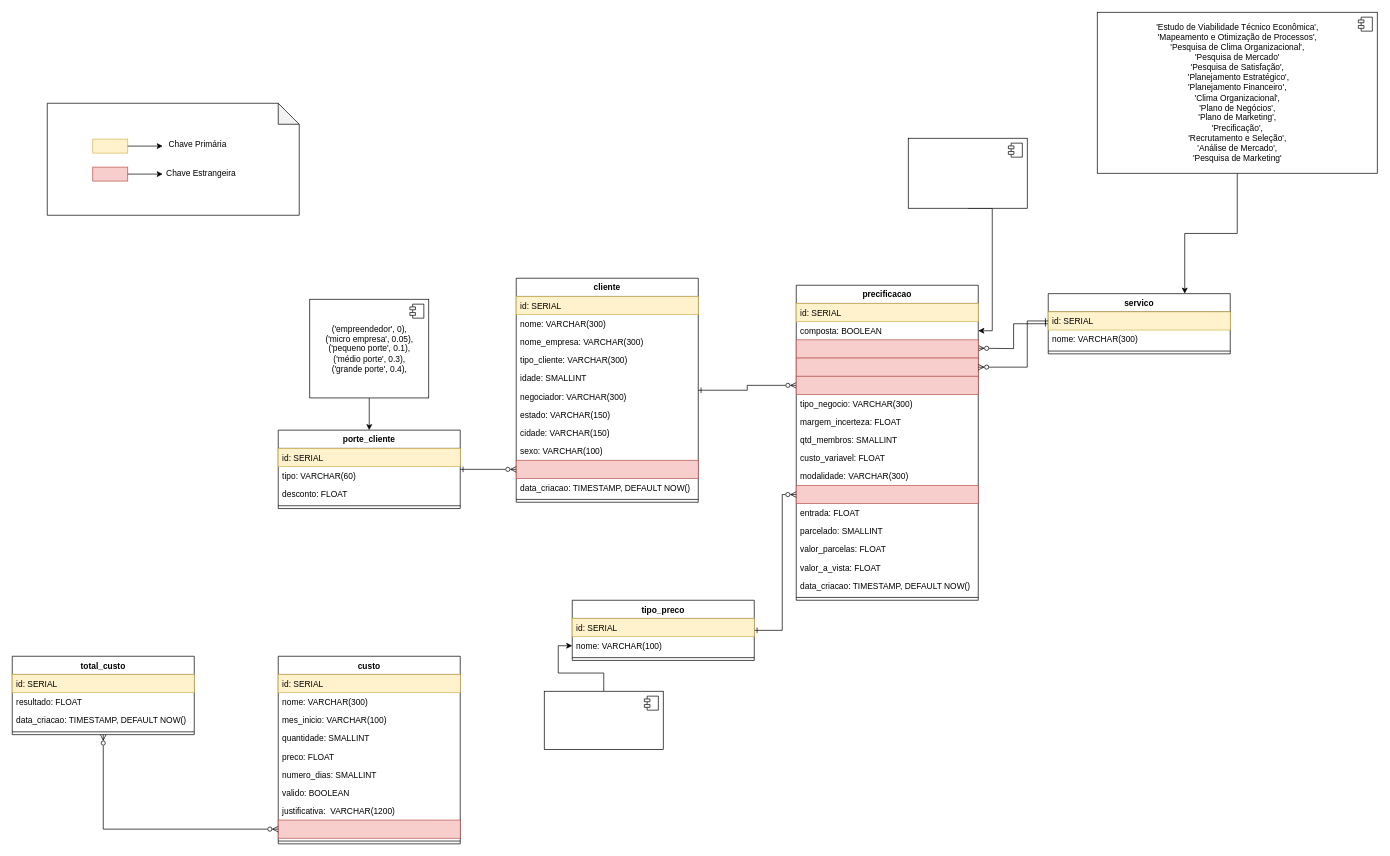
The diagram is 1390 pixels wide and 856 high, and some of its shapes have lost their labels. Each missing label, with the centre of its shape:
'preço piso', 'preço médio', 'preço teto': the point at 603,720
id_cliente: SMALLINT, FK cliente(id): the point at 887,385
id_porte_cliente: SMALLINT, FK porte_cliente(id): the point at 607,469
id_servico: SMALLINT, servico(id): the point at 887,348
id_servico_composto: SMALLINT, servico(id): the point at 887,366
id_tipo_preco: SMALLINT, FK tipo_preco: the point at 887,494
id_total_custo: SMALLINT, FK total_custo(id): the point at 369,828
Se 'true' deve passar o id_servico_composto: the point at 967,173
